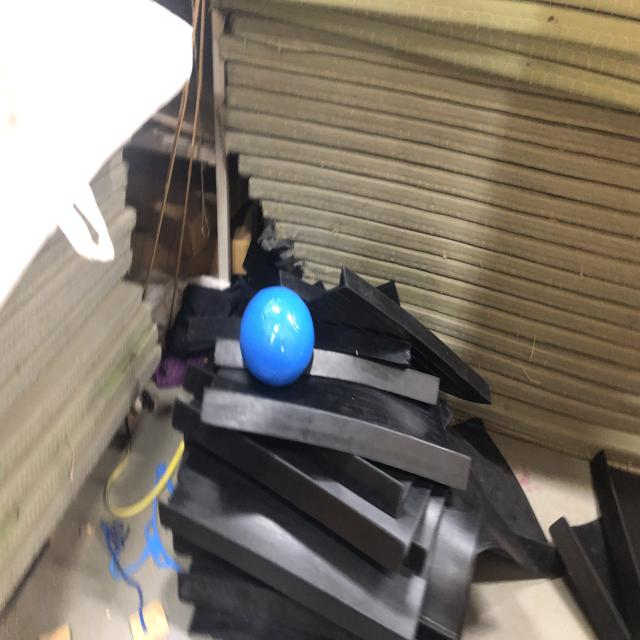blue_ball: (232, 267, 319, 390)
